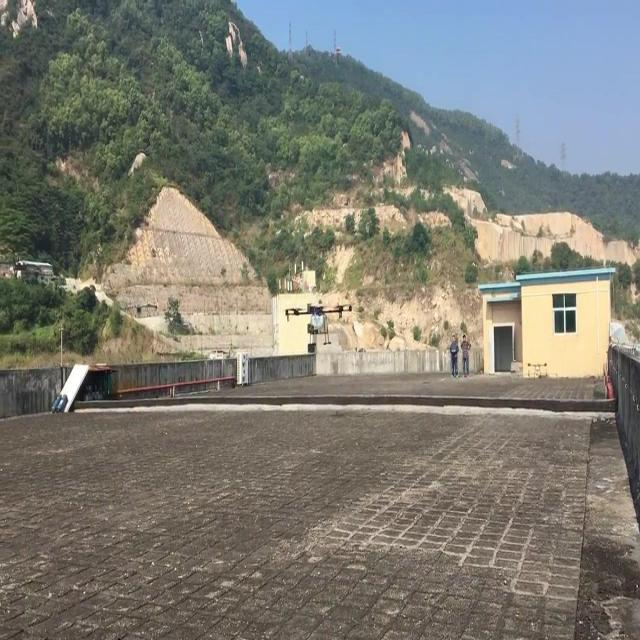UAV: (286, 300, 352, 346)
